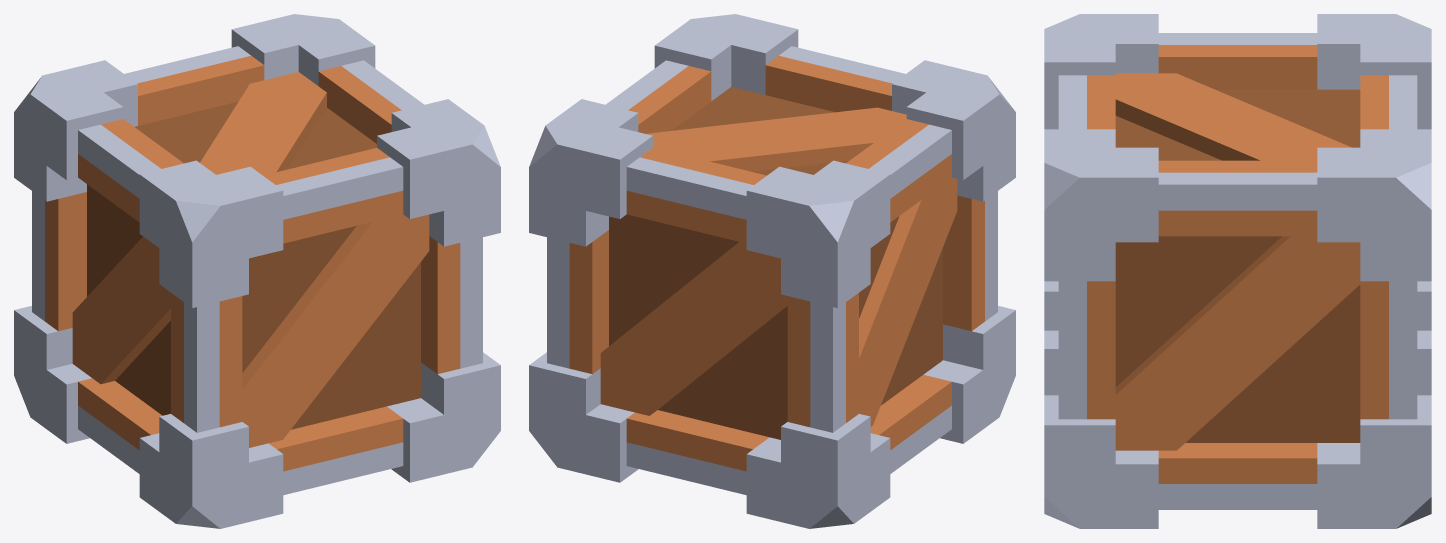
The model's file is crateStrong.fbx.
3 renders of one model, left to right at view 1: azimuth 30°, elevation 25°; view 2: azimuth 150°, elevation 25°; view 3: azimuth 270°, elevation 25°, orthographic. The views are drawn at different scales.
Visible parts, largest first — view 1: crateStrong; view 2: crateStrong; view 3: crateStrong.
Part boxes in pixels (left/top/right/bottom): crateStrong: left=14, top=14, right=500, bottom=528; crateStrong: left=529, top=14, right=1015, bottom=528; crateStrong: left=1044, top=14, right=1431, bottom=528.
Size of the model in its own units: 5.4 by 5.4 by 5.4.
